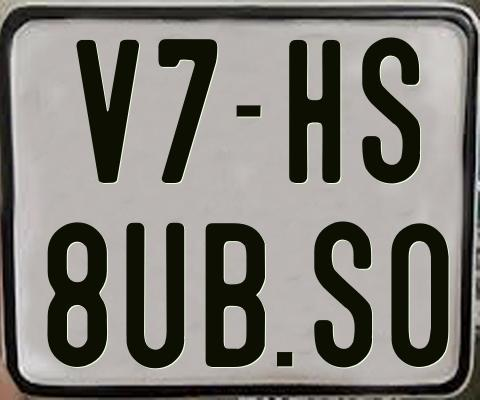0: (391, 222, 450, 367)
7: (158, 38, 222, 184)
8: (46, 220, 112, 369)
B: (205, 221, 267, 369)
H: (286, 37, 342, 184)
S: (312, 220, 374, 368), (359, 37, 419, 183)
U: (124, 223, 183, 372)
V: (75, 38, 141, 184)
